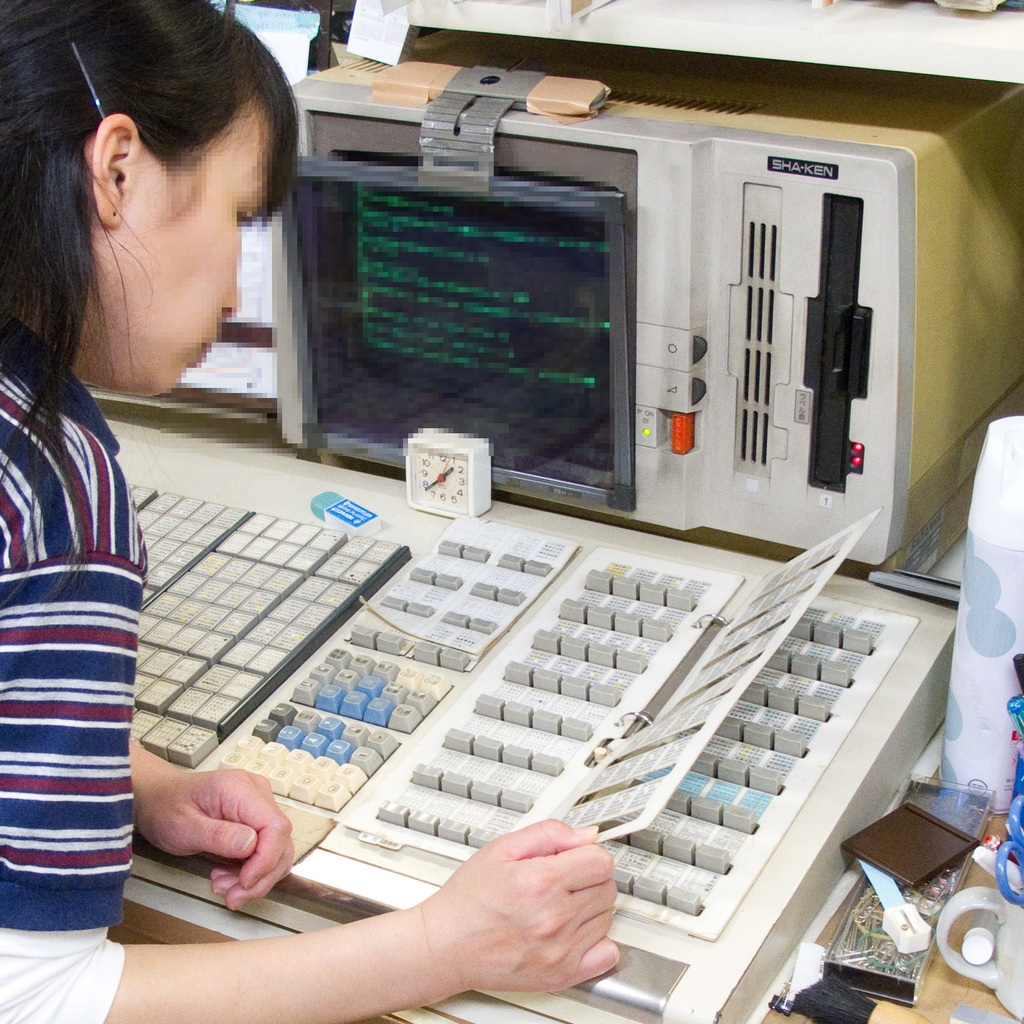Human_hand: (413, 815, 621, 994), (131, 766, 294, 915)
